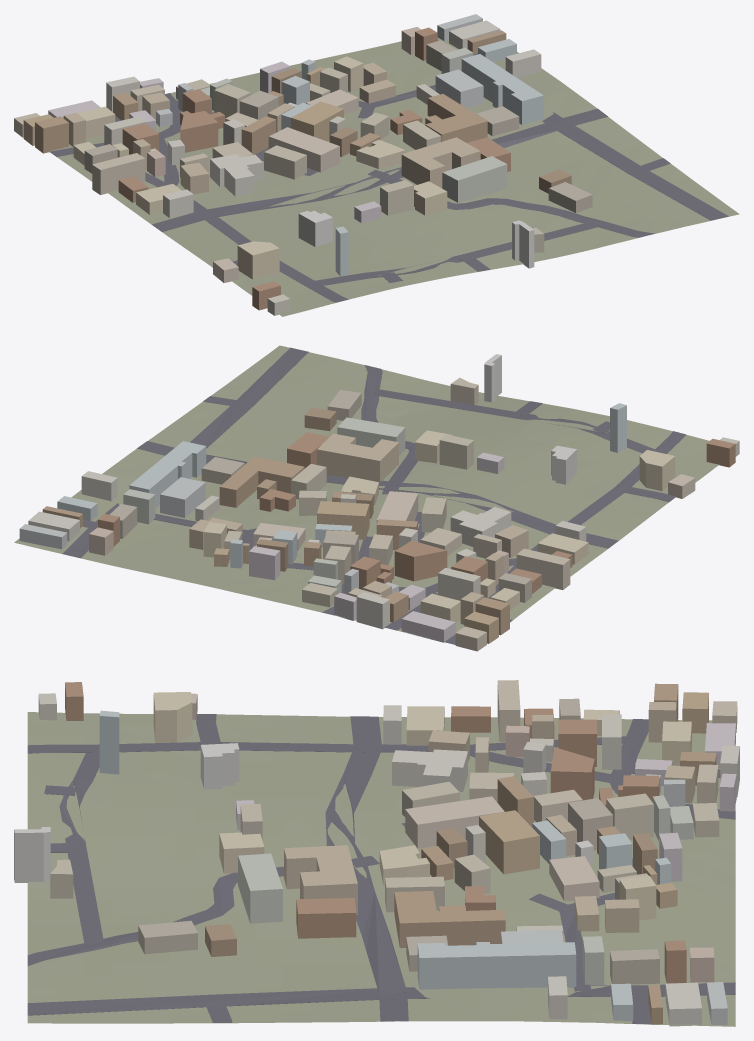
Rendered from chunk_10_5.glb.
The picture shows the model from 3 angles, top to bottom: view 1: azimuth 30°, elevation 25°; view 2: azimuth 150°, elevation 25°; view 3: azimuth 270°, elevation 25°; orthographic projection. The views are drawn at different scales.
Parts seen in each view (by area): view 1: geometry_101, geometry_104, geometry_7, geometry_102, geometry_6, geometry_2, geometry_60, geometry_23, geometry_11, geometry_110, geometry_114, geometry_39 (+48 smaller); view 2: geometry_101, geometry_6, geometry_102, geometry_60, geometry_7, geometry_104, geometry_80, geometry_114, geometry_23, geometry_39, geometry_2, geometry_110 (+54 smaller); view 3: geometry_101, geometry_7, geometry_104, geometry_102, geometry_60, geometry_6, geometry_114, geometry_65, geometry_11, geometry_2, geometry_23, geometry_103 (+77 smaller).
Boxes of the visible parts, box(x1,y1,x2,y2) form: geometry_101: box(49, 38, 739, 316); geometry_104: box(152, 121, 565, 231); geometry_7: box(461, 54, 543, 124); geometry_102: box(557, 121, 728, 220); geometry_6: box(401, 137, 480, 188); geometry_2: box(442, 156, 507, 202); geometry_60: box(425, 94, 487, 142); geometry_23: box(210, 154, 262, 196); geometry_11: box(268, 127, 339, 172); geometry_110: box(380, 175, 654, 237); geometry_114: box(315, 222, 600, 285); geometry_39: box(92, 153, 145, 194); geometry_101: box(14, 345, 718, 644); geometry_6: box(317, 433, 398, 482); geometry_102: box(190, 347, 308, 448); geometry_60: box(219, 456, 304, 507); geometry_7: box(129, 441, 206, 508); geometry_104: box(206, 454, 618, 548); geometry_80: box(394, 540, 447, 581); geometry_114: box(373, 389, 654, 453); geometry_23: box(450, 507, 511, 546); geometry_39: box(516, 548, 570, 589); geometry_2: box(337, 417, 405, 455); geometry_110: box(361, 365, 417, 486); geometry_101: box(27, 712, 735, 1026); geometry_7: box(417, 942, 576, 989); geometry_104: box(325, 716, 407, 993); geometry_102: box(27, 988, 394, 1015); geometry_60: box(394, 891, 505, 947); geometry_6: box(284, 845, 357, 915); geometry_114: box(59, 752, 103, 944); geometry_65: box(479, 810, 539, 874); geometry_11: box(405, 796, 504, 848); geometry_2: box(238, 853, 282, 923); geometry_23: box(392, 749, 467, 791); geometry_103: box(27, 742, 367, 753).
Bounding box in the file's own units: 255 × 28.44 × 256.
